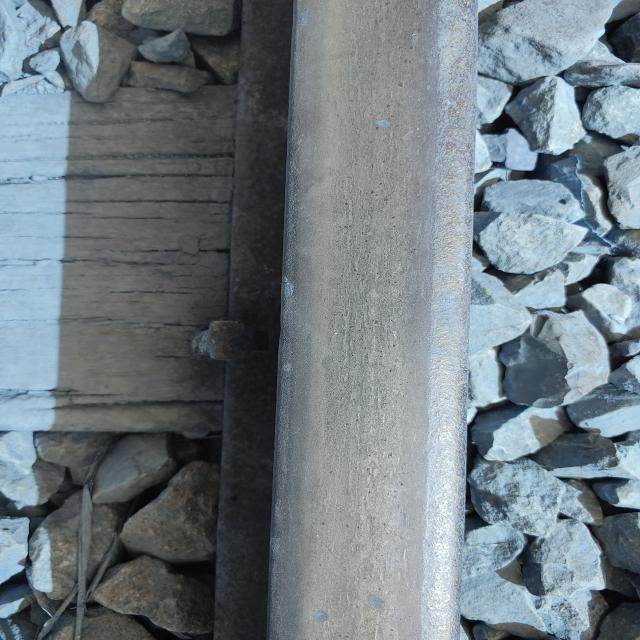Good Fasteners: (191, 320, 254, 360)
